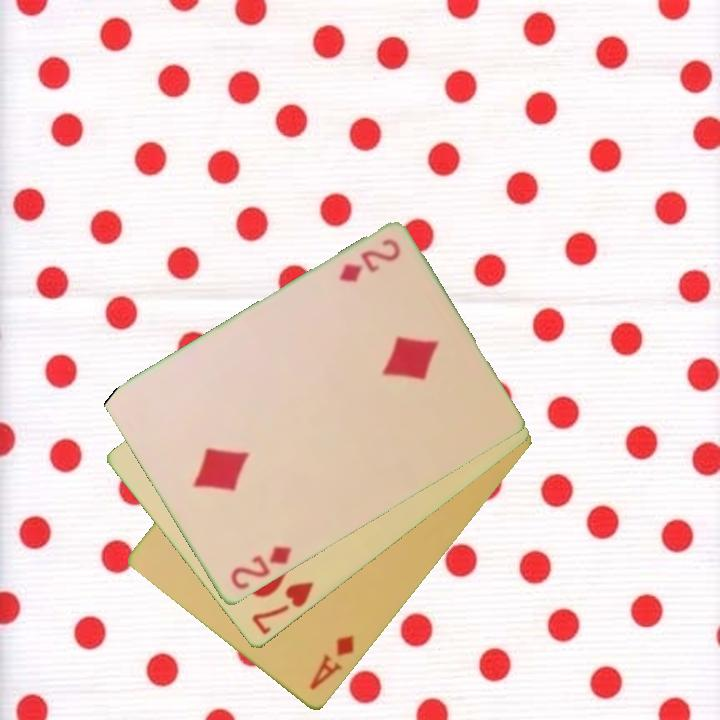2d: (335, 235, 404, 286), (226, 543, 294, 593)
7h: (247, 578, 317, 638)
Ad: (305, 631, 358, 694)
